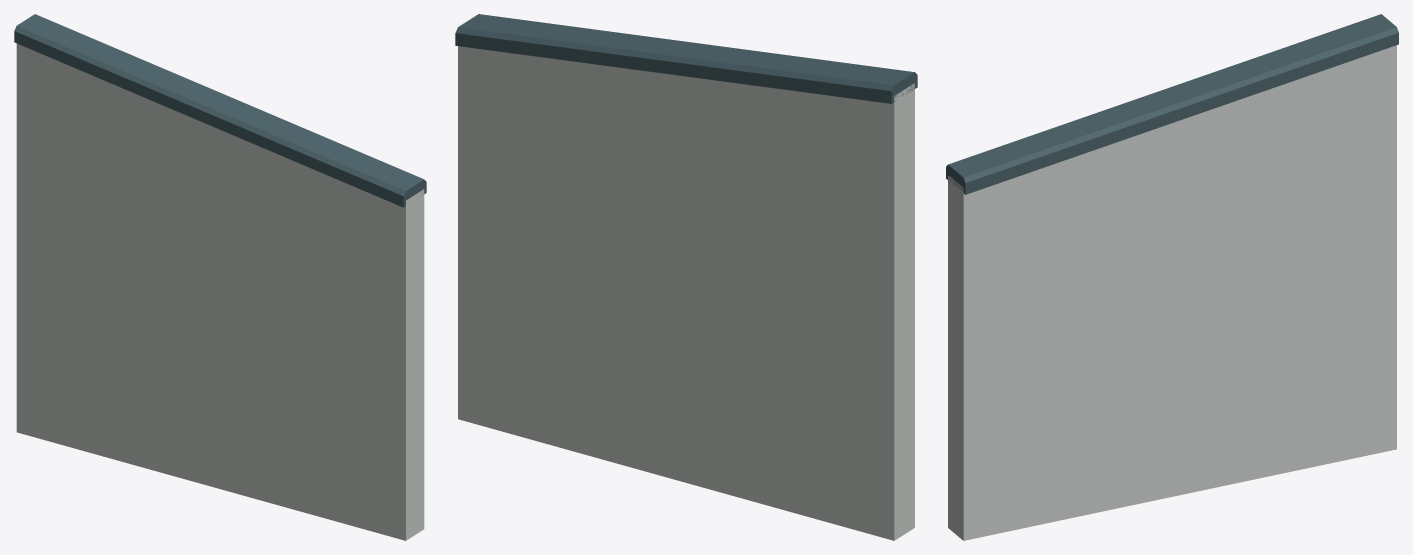
File: halfwall_26_starboard_rise_2.glb
The picture shows the model from 3 angles, left to right: view 1: azimuth 30°, elevation 25°; view 2: azimuth 210°, elevation 25°; view 3: azimuth 270°, elevation 25°; orthographic projection. The views are drawn at different scales.
Parts seen in each view (by area): view 1: Seamless solid halfwall.012, Seamless top cap.012; view 2: Seamless solid halfwall.012, Seamless top cap.012; view 3: Seamless solid halfwall.012, Seamless top cap.012.
Part boxes in pixels (x1,y1,x2,y2): Seamless solid halfwall.012: [16, 43, 424, 540]; Seamless top cap.012: [14, 14, 426, 207]; Seamless solid halfwall.012: [458, 46, 914, 540]; Seamless top cap.012: [455, 14, 917, 103]; Seamless solid halfwall.012: [948, 45, 1396, 540]; Seamless top cap.012: [946, 14, 1398, 194].
Size of the model in its own units: 0.5894 by 1.08 by 1.04.
